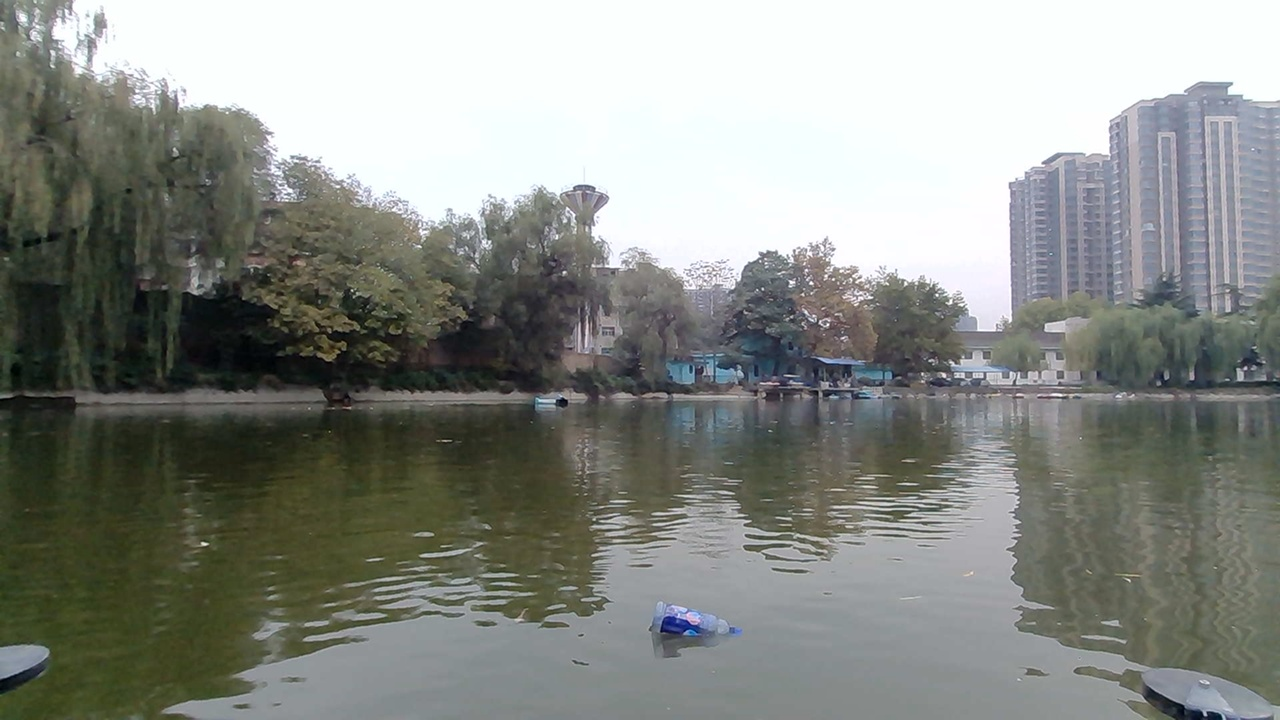bottle: (634, 595, 759, 658)
